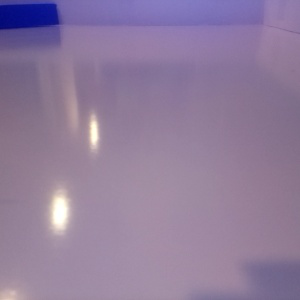zone: (1, 2, 59, 28)
